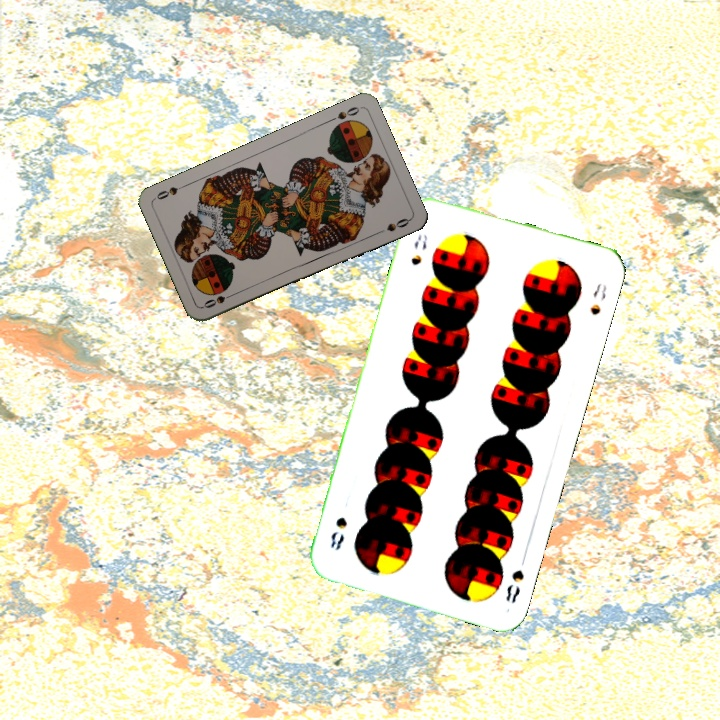S8: (501, 550, 530, 606), (407, 230, 430, 268)
SO: (199, 288, 239, 311), (324, 102, 362, 125)
